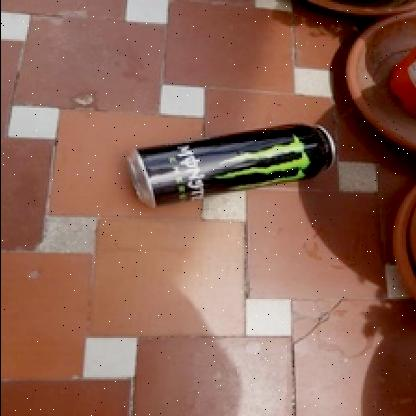Can: (122, 119, 337, 211)
